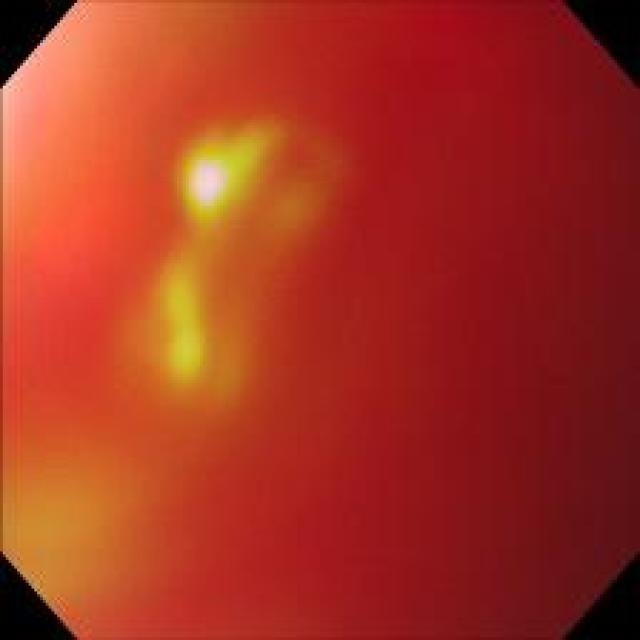color misalignment: (72, 8, 454, 636)
